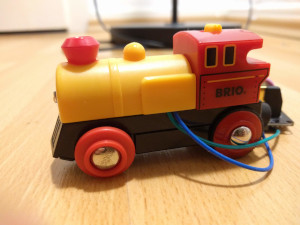brio: (47, 22, 271, 180)
